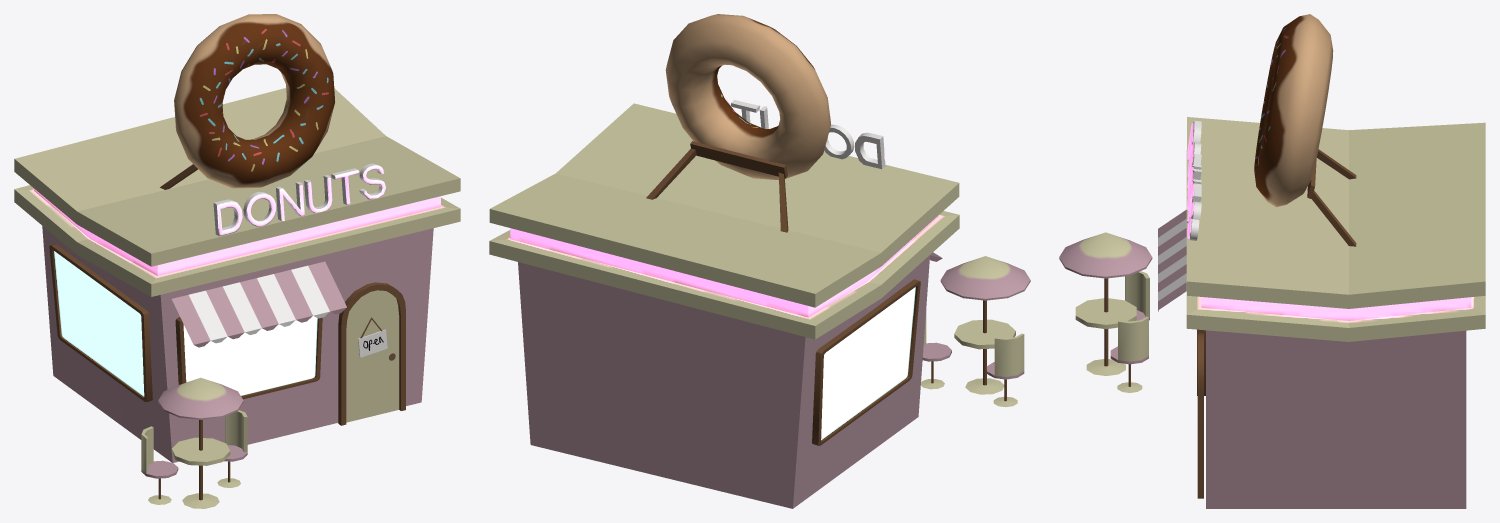
The model's file is donut_stall.glb.
The picture shows the model from 3 angles, left to right: view 1: azimuth 30°, elevation 25°; view 2: azimuth 150°, elevation 25°; view 3: azimuth 270°, elevation 25°; orthographic projection. The views are drawn at different scales.
Visible parts, largest first — view 1: donutshop_model_01_01 - Default_0; view 2: donutshop_model_01_01 - Default_0; view 3: donutshop_model_01_01 - Default_0.
Part boxes in pixels (left/top/right/bottom): donutshop_model_01_01 - Default_0: left=14, top=14, right=460, bottom=508; donutshop_model_01_01 - Default_0: left=489, top=14, right=1030, bottom=508; donutshop_model_01_01 - Default_0: left=1059, top=14, right=1485, bottom=508.
Size of the model in its own units: 5.64 by 6.04 by 5.58.
Materials: 1 (1 with a texture image).
